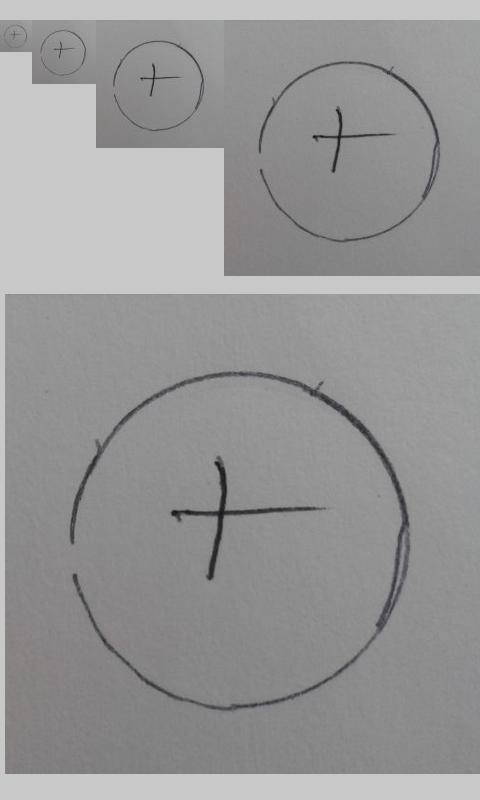button: (68, 370, 413, 714), (257, 60, 442, 244), (112, 39, 204, 132), (40, 29, 86, 76), (3, 24, 28, 49)
